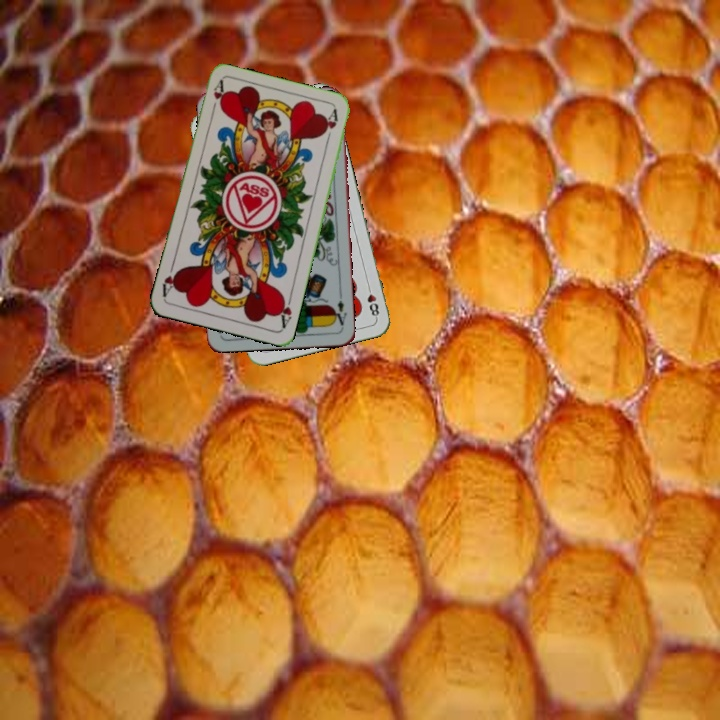EA: (329, 290, 349, 328)
H8: (363, 281, 382, 321)
HA: (274, 290, 295, 331), (207, 77, 227, 118)
